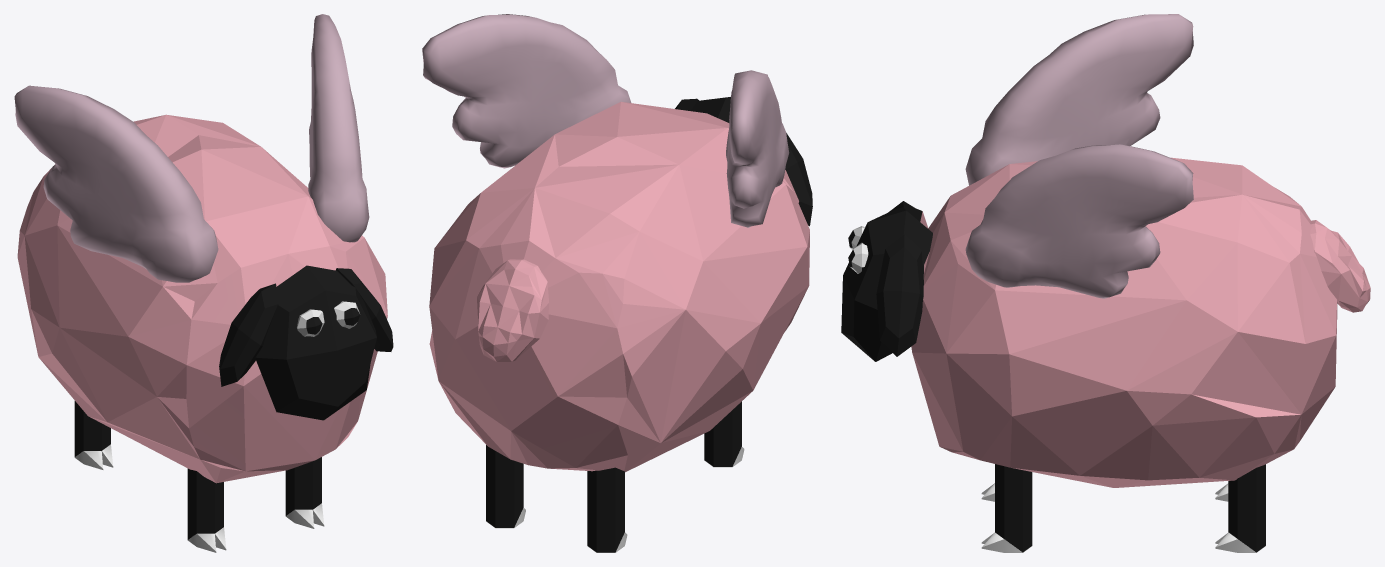
Rendered from ovca_roza_krila.fbx.
3 views of the same model, side by side, from view 1: azimuth 30°, elevation 25°; view 2: azimuth 150°, elevation 25°; view 3: azimuth 270°, elevation 25° (orthographic). The views are drawn at different scales.
Visible parts, largest first — view 1: pCylinder12, Wings.001; view 2: pCylinder12, Wings.001; view 3: pCylinder12, Wings.001.
Part boxes in pixels (bbox=[...]): pCylinder12: bbox=[17, 114, 393, 552]; Wings.001: bbox=[14, 14, 369, 282]; pCylinder12: bbox=[429, 97, 812, 552]; Wings.001: bbox=[422, 14, 789, 227]; pCylinder12: bbox=[841, 157, 1370, 552]; Wings.001: bbox=[965, 14, 1193, 298].
Bounding box in the file's own units: 96.41 × 125 × 136.
